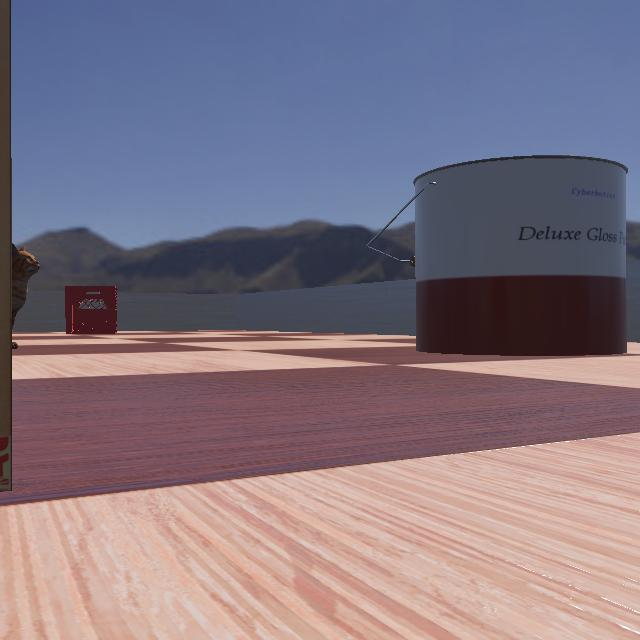paint-bucket: (360, 154, 640, 358)
plastic-crate: (53, 285, 127, 333)
